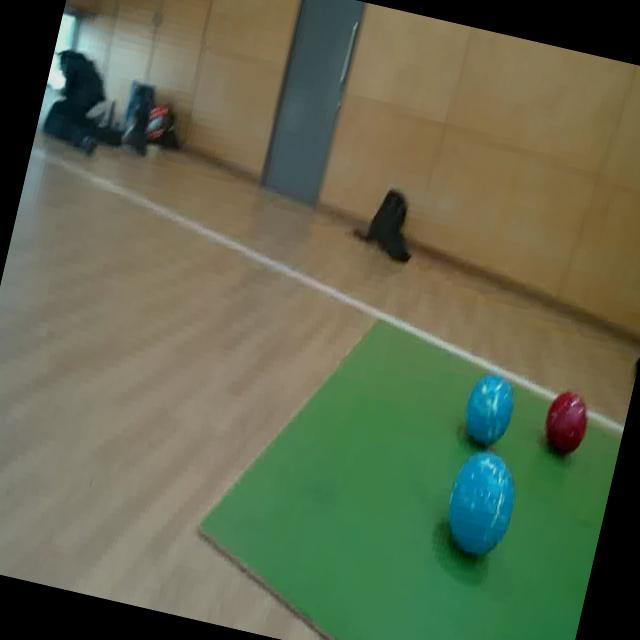blue_ball: (434, 445, 526, 573), (458, 368, 522, 452)
red_ball: (534, 381, 594, 466)
